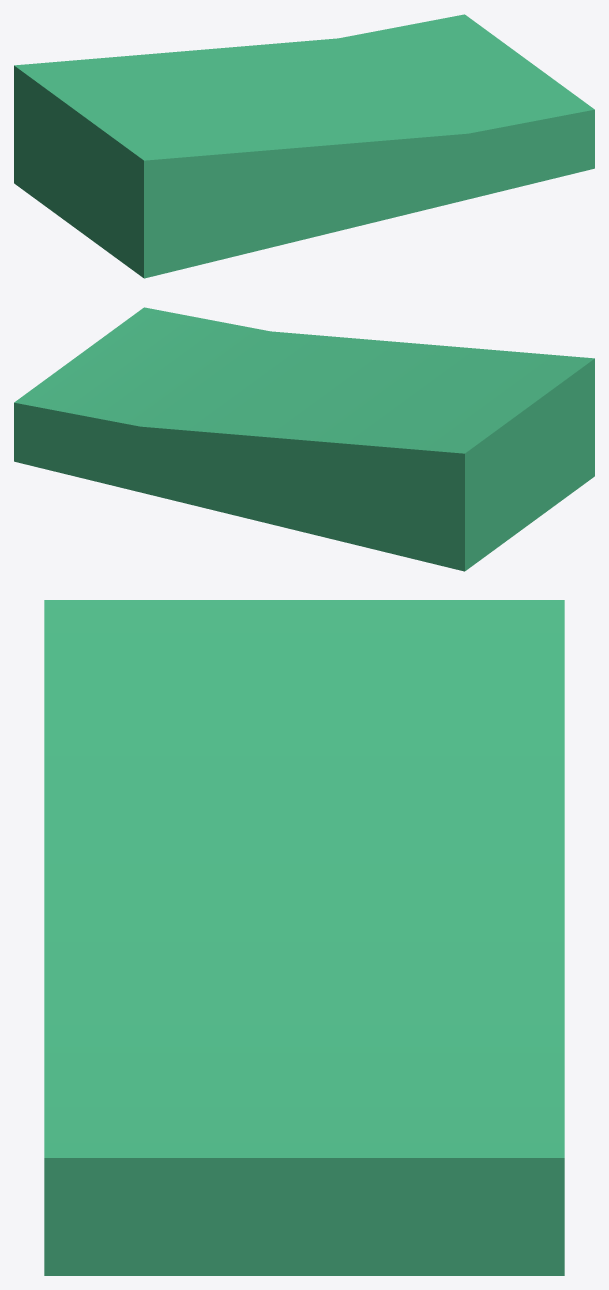
The model's file is gm_ramp_03.dae.
3 renders of one model, top to bottom at view 1: azimuth 30°, elevation 25°; view 2: azimuth 150°, elevation 25°; view 3: azimuth 270°, elevation 25°, orthographic. The views are drawn at different scales.
Parts seen in each view (by area): view 1: Colmesh-1; view 2: Colmesh-1; view 3: Colmesh-1.
Boxes of the visible parts, bbox=[...] form: Colmesh-1: bbox=[14, 14, 594, 278]; Colmesh-1: bbox=[14, 307, 594, 571]; Colmesh-1: bbox=[44, 600, 564, 1275].
Size of the model in its own units: 8 by 4 by 2.
